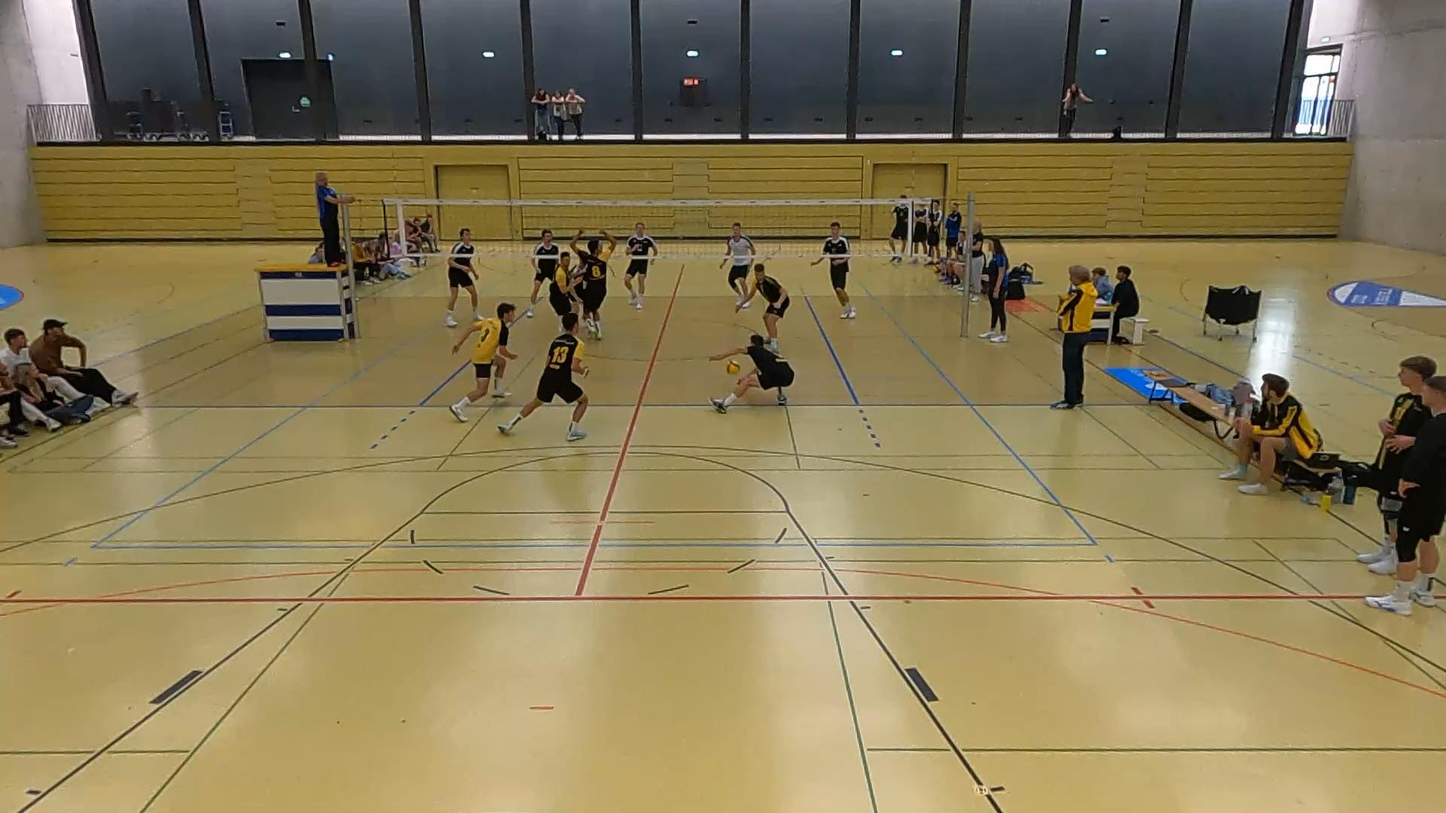difesa: (707, 334, 796, 416)
